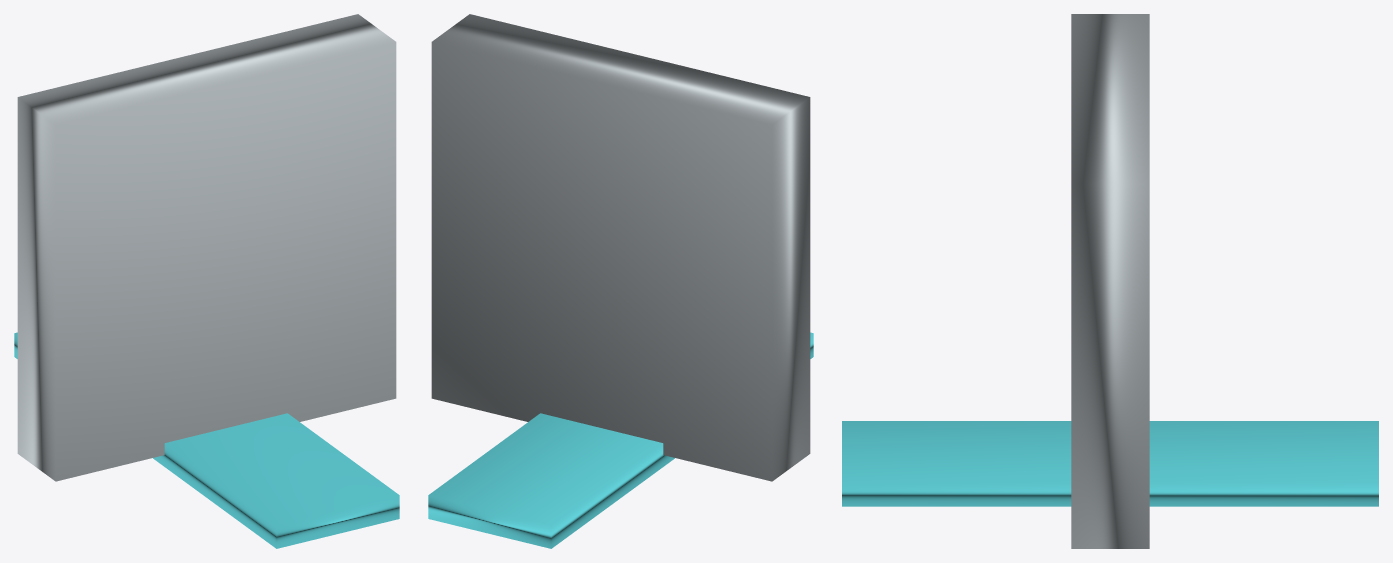
The model's file is medical-scanner.gltf.
3 views of the same model, side by side, from view 1: azimuth 30°, elevation 25°; view 2: azimuth 150°, elevation 25°; view 3: azimuth 270°, elevation 25° (orthographic). The views are drawn at different scales.
Parts seen in each view (by area): view 1: Scanner Gantry, Patient Table; view 2: Scanner Gantry, Patient Table; view 3: Scanner Gantry, Patient Table.
Part boxes in pixels (box(x1,y1,x2,y2)): Scanner Gantry: box(17, 14, 396, 481); Patient Table: box(14, 332, 399, 548); Scanner Gantry: box(431, 14, 810, 481); Patient Table: box(428, 332, 813, 548); Scanner Gantry: box(1071, 14, 1149, 548); Patient Table: box(842, 421, 1378, 506).
Size of the model in its own units: 3.6 by 3.72 by 4.8.
